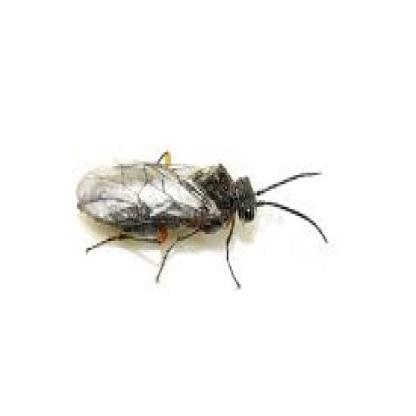sawfly: (74, 148, 333, 293)
